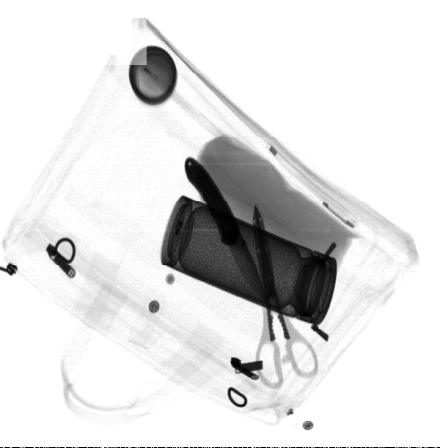Knife: (184, 156, 266, 294)
Scissors: (252, 205, 319, 387)
